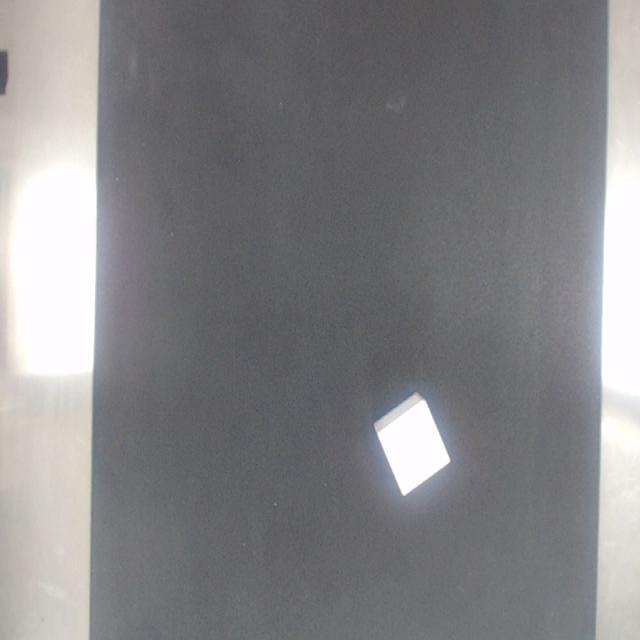Blanco: (374, 392, 450, 495)
